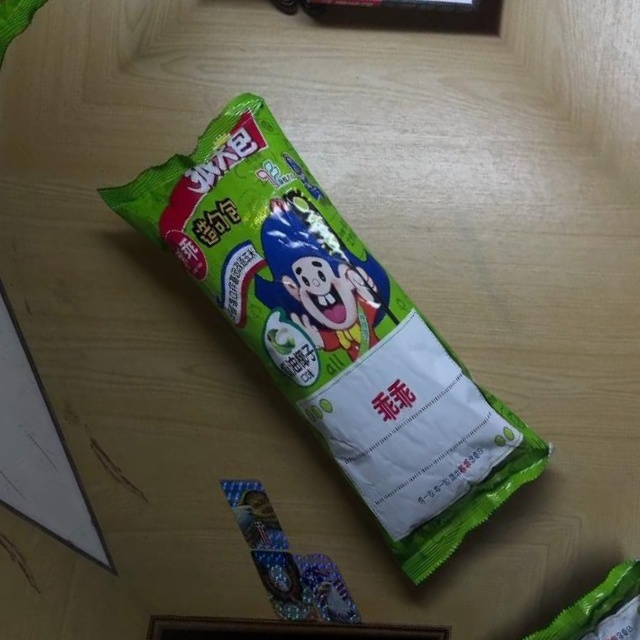Good-Luck: (88, 69, 567, 588)
